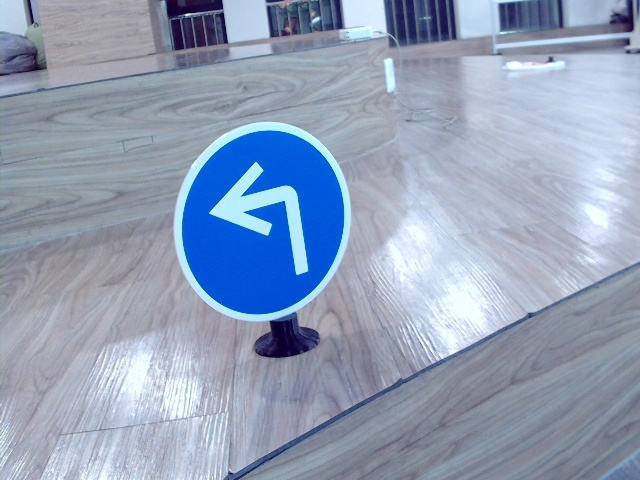turn_left: (208, 163, 313, 278)
